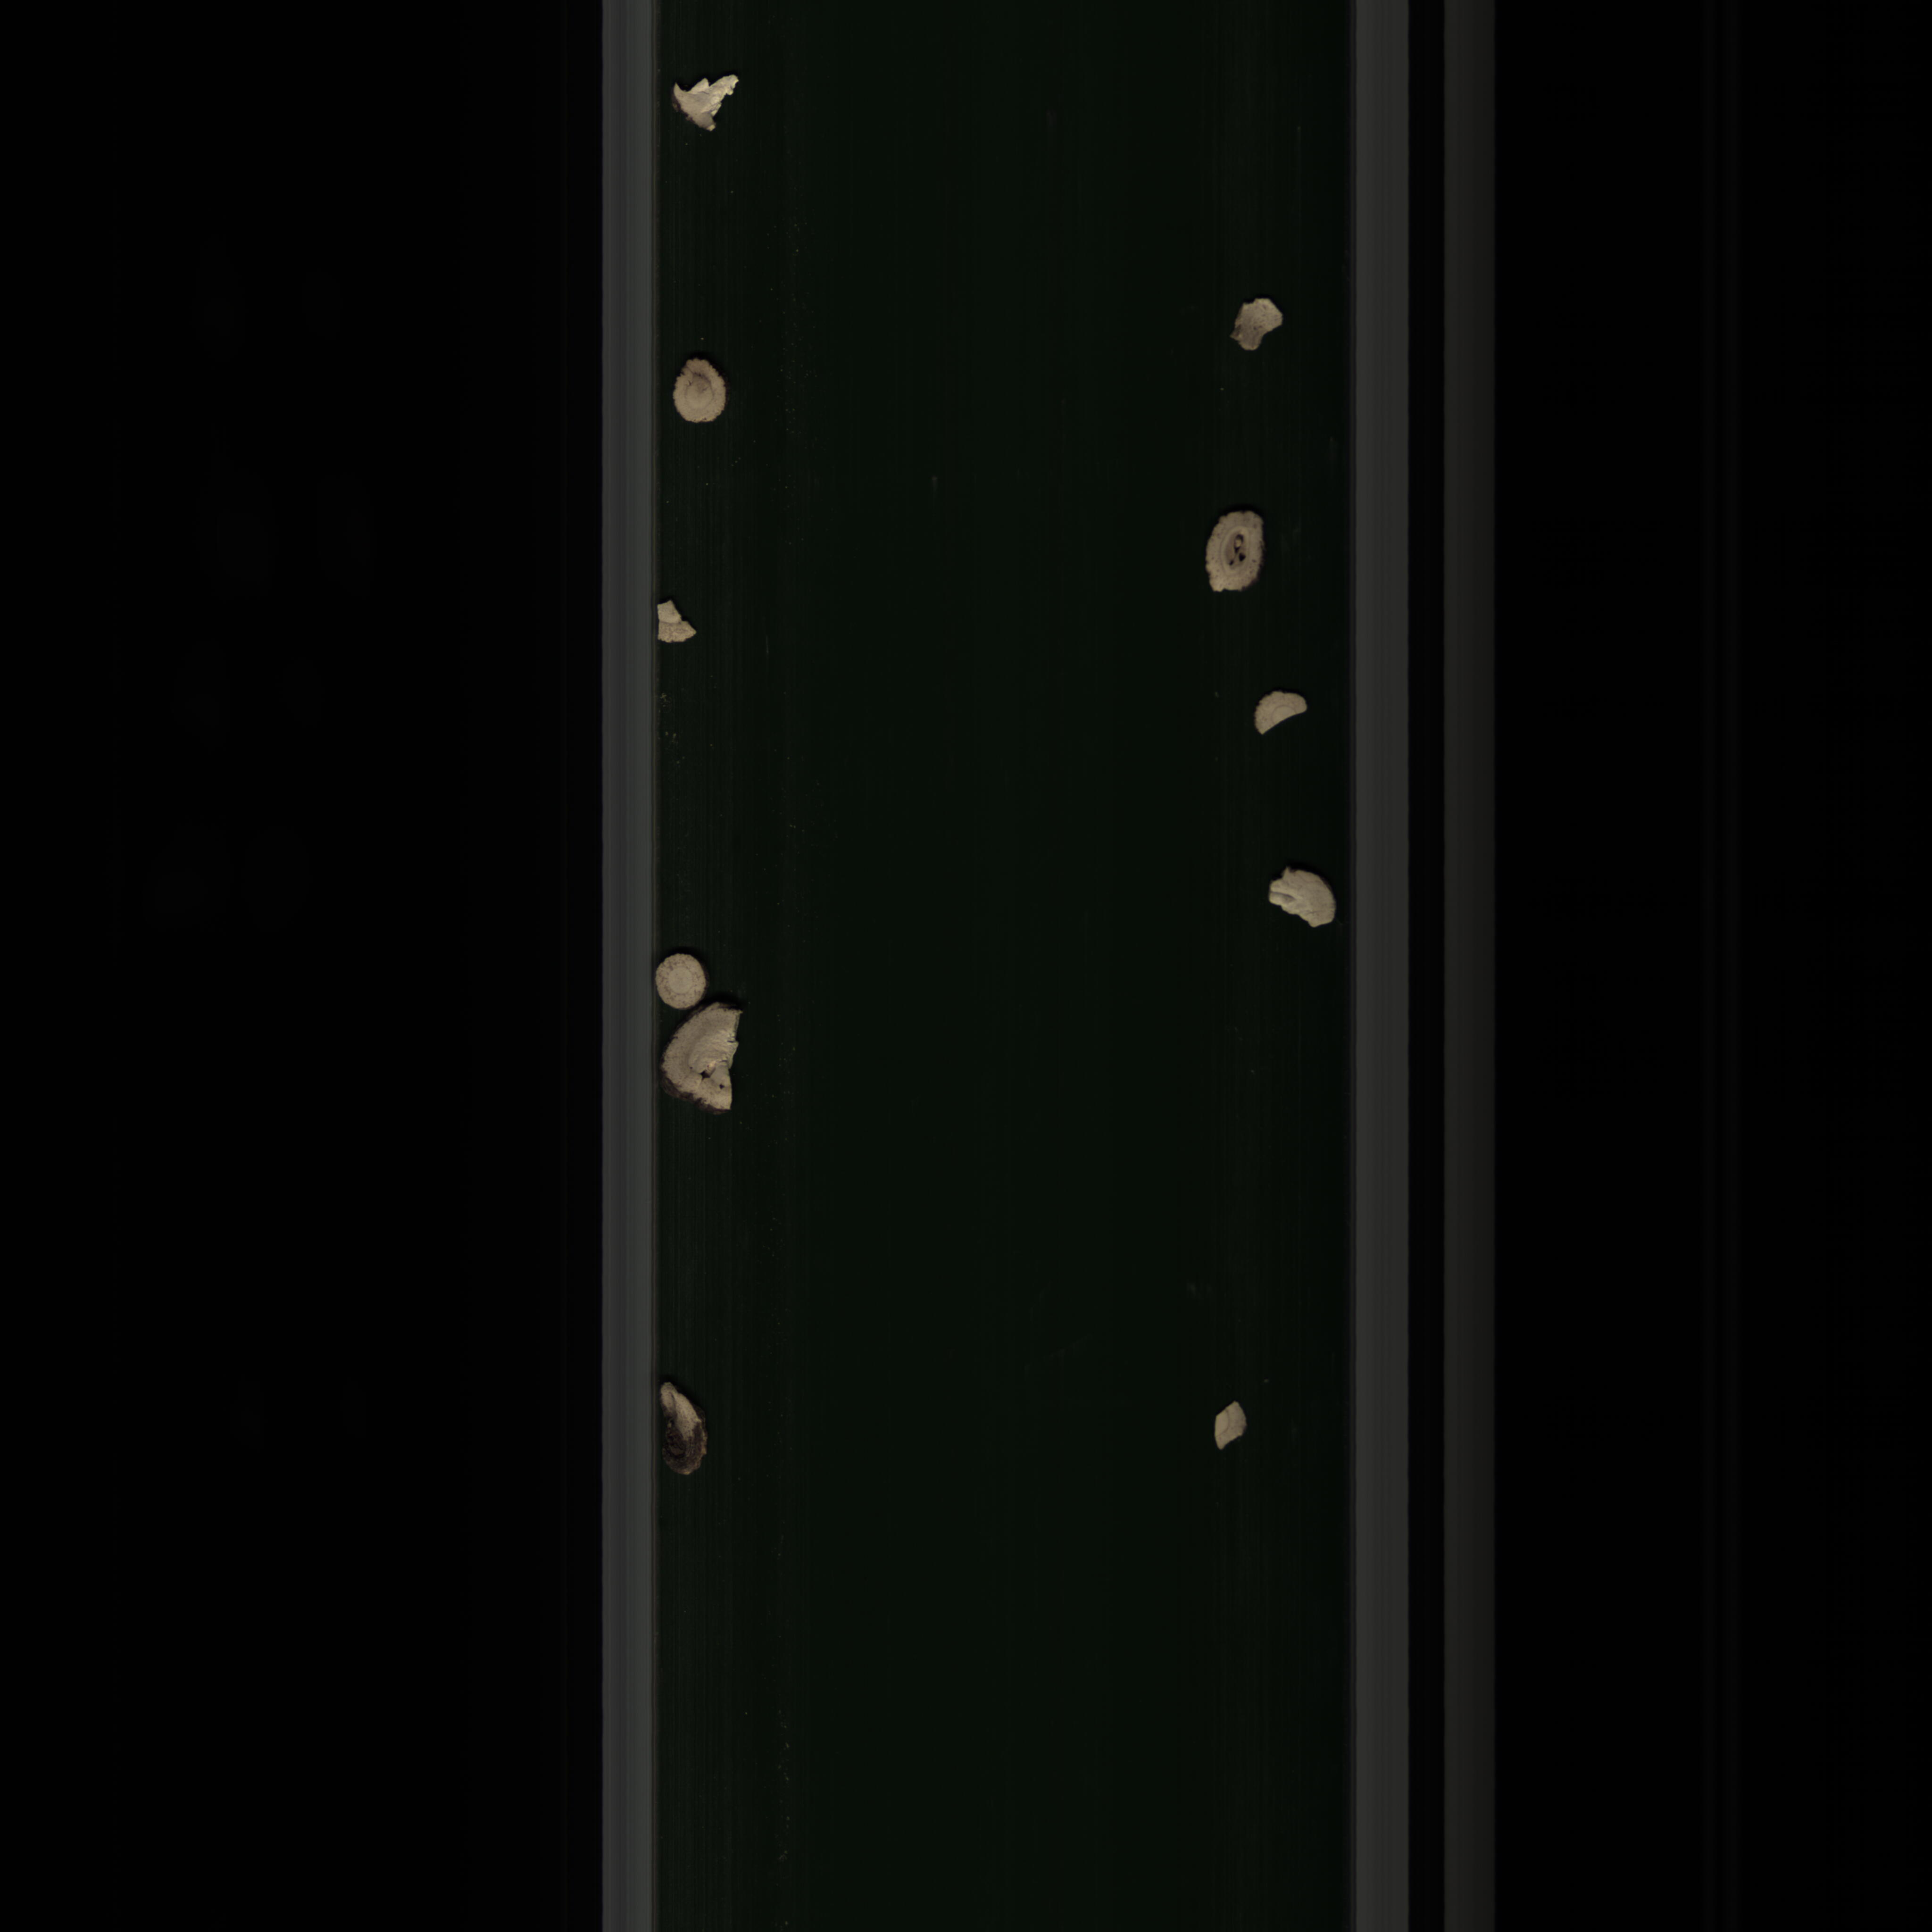bark: (648, 1378, 718, 1484)
debris: (662, 1001, 750, 1120), (1261, 856, 1341, 939), (667, 67, 748, 140), (1223, 292, 1288, 363), (1240, 686, 1323, 741), (1207, 1394, 1258, 1460), (655, 593, 701, 655)
hole: (1198, 506, 1276, 603)
